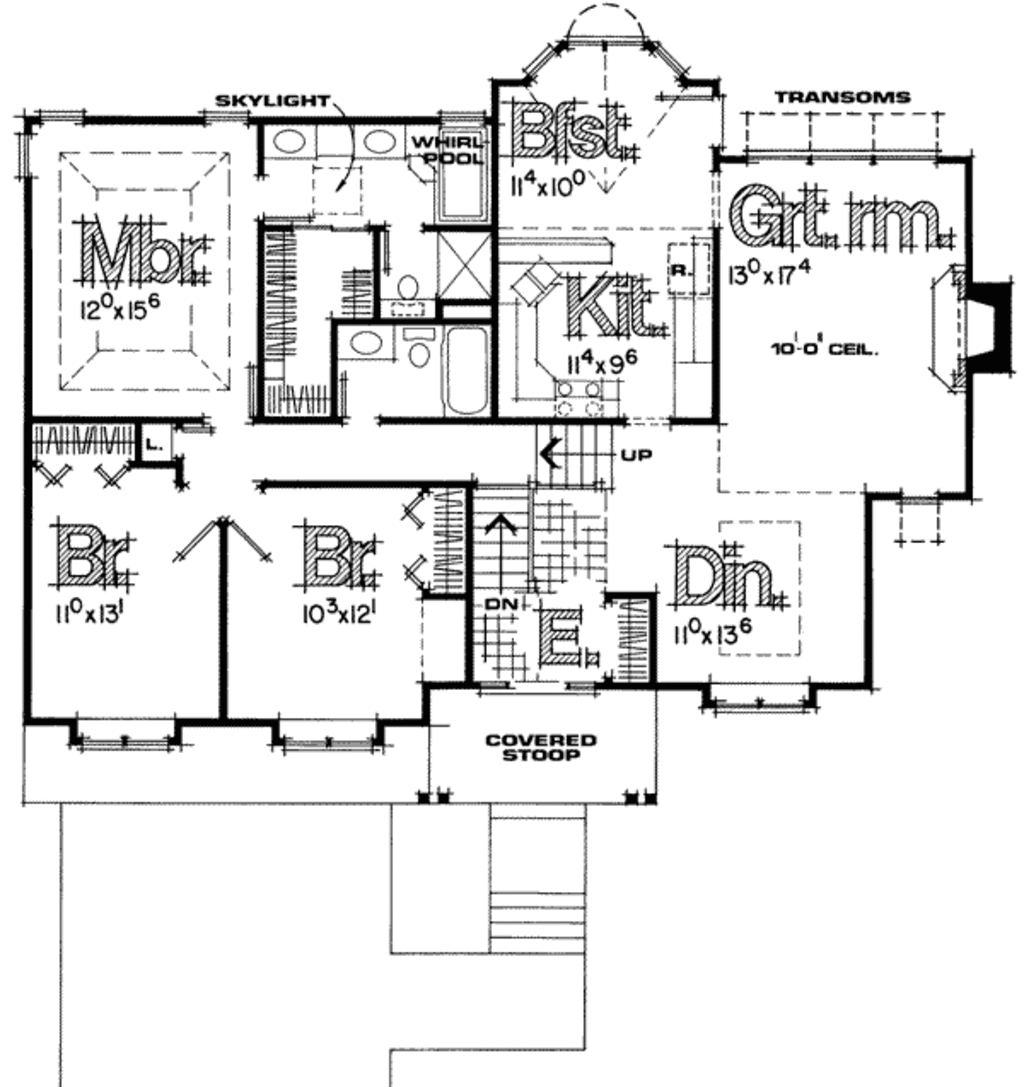large_sink: (396, 325, 440, 371), (386, 262, 428, 301)
small_sink: (267, 120, 401, 164), (345, 318, 389, 360)
stairs: (474, 798, 587, 957), (448, 413, 630, 494), (474, 483, 537, 679)
tub: (443, 313, 499, 425), (437, 118, 487, 225)
twin_sink: (509, 242, 562, 305)
window: (269, 720, 391, 759), (77, 718, 194, 754), (713, 689, 818, 722), (906, 488, 953, 505)
